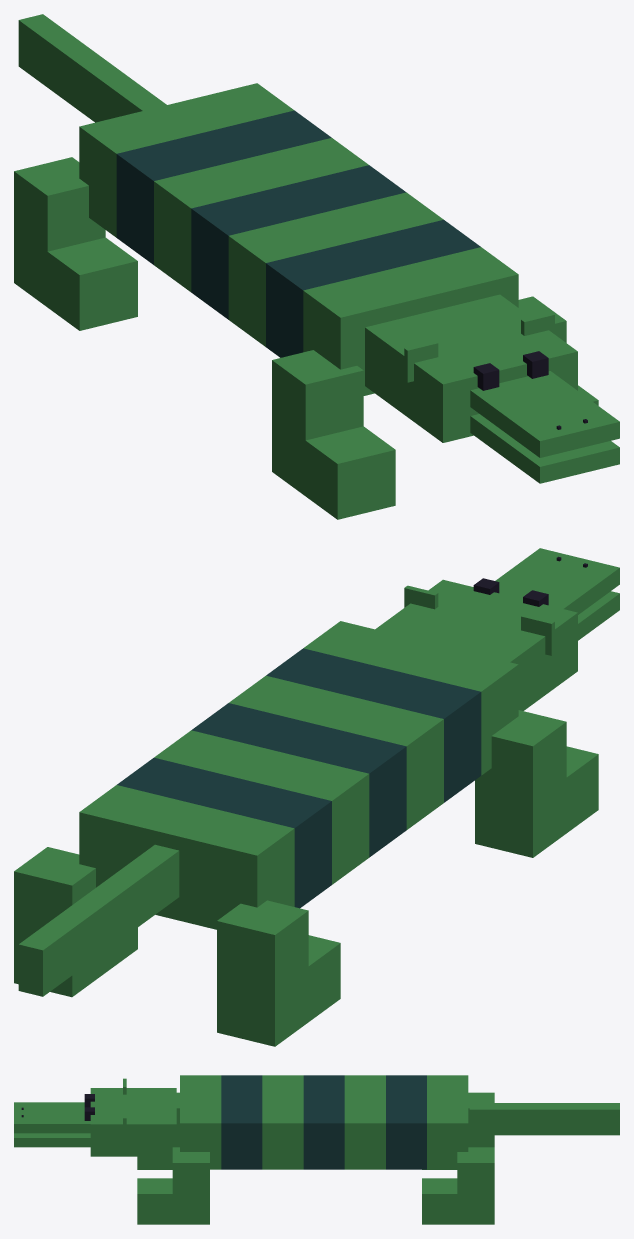
File: animal3.fbx
3 views of the same model, one above another, from view 1: azimuth 30°, elevation 25°; view 2: azimuth 150°, elevation 25°; view 3: azimuth 270°, elevation 25° (orthographic). The views are drawn at different scales.
Parts seen in each view (by area): view 1: Crocodile; view 2: Crocodile; view 3: Crocodile.
Boxes of the visible parts, x1,y1,x2,y2 form: Crocodile: (14,14,619,519); Crocodile: (14,548,619,1046); Crocodile: (14,1075,619,1224).
Size of the model in its own units: 1.65 by 0.9967 by 6.01.
